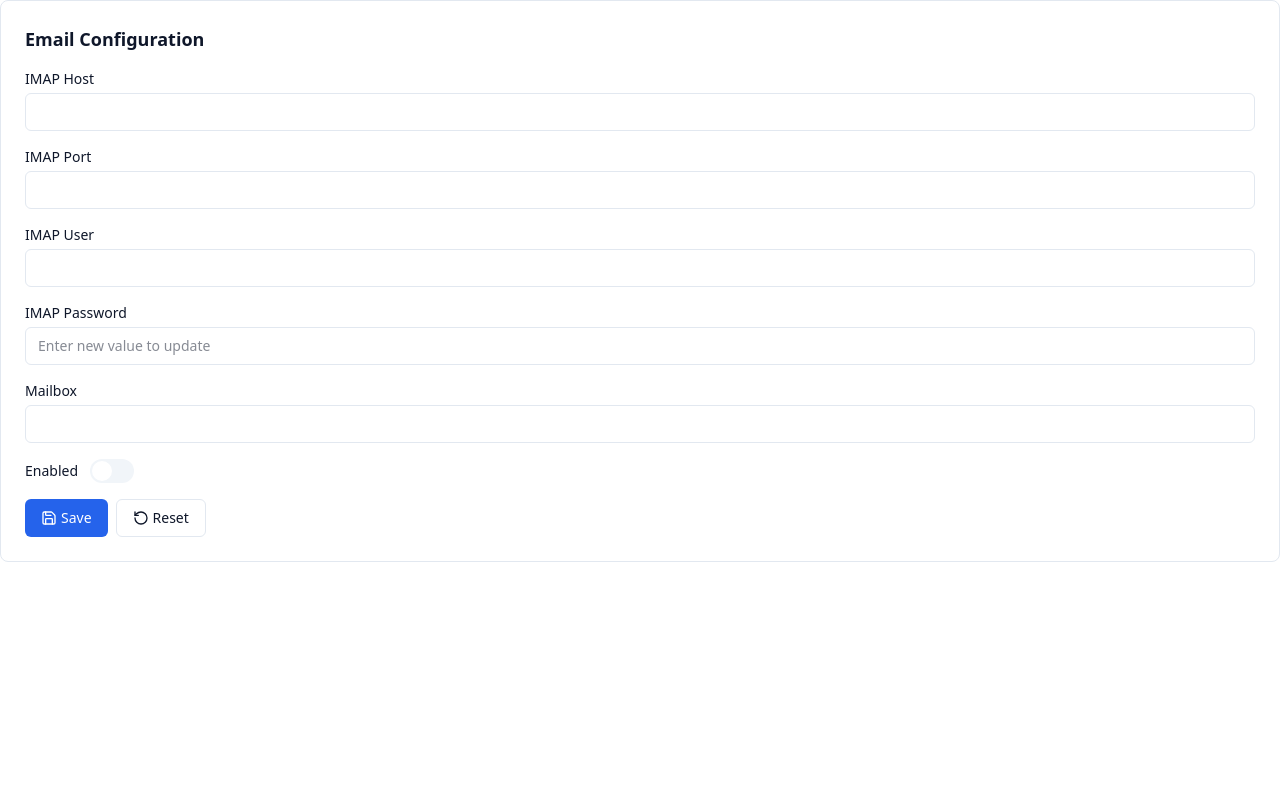
Scenario: ChannelConfigForm › shows saving state on save button
Click the button with test id "config-save-btn": click(66, 518) [25,499,108,537]
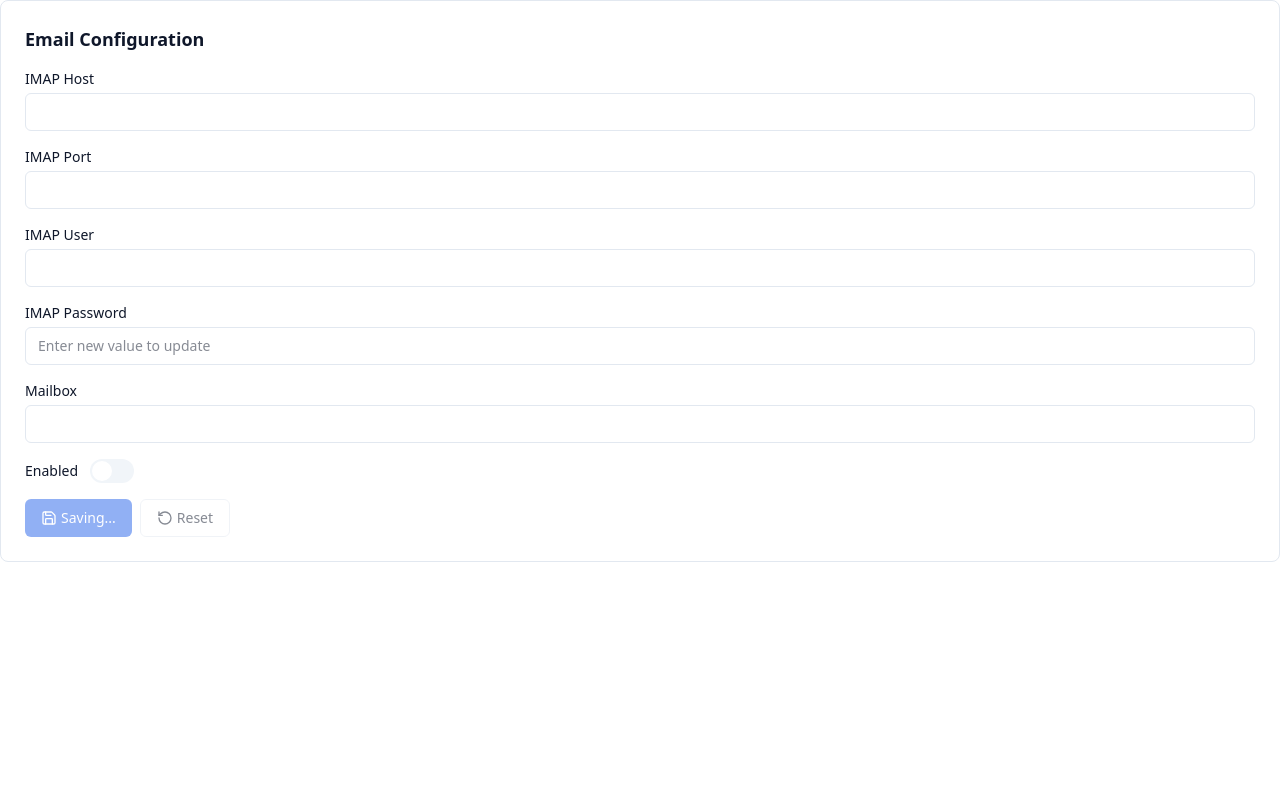
Now the button with test id "config-save-btn" reads "Saving...", box [25,499,132,537]
